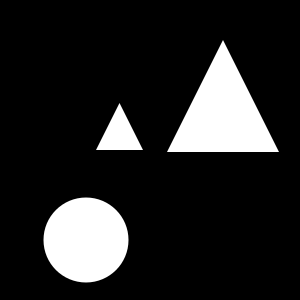rectangle: (44, 198, 128, 282)
triangle: (167, 40, 279, 152), (96, 103, 143, 150)
